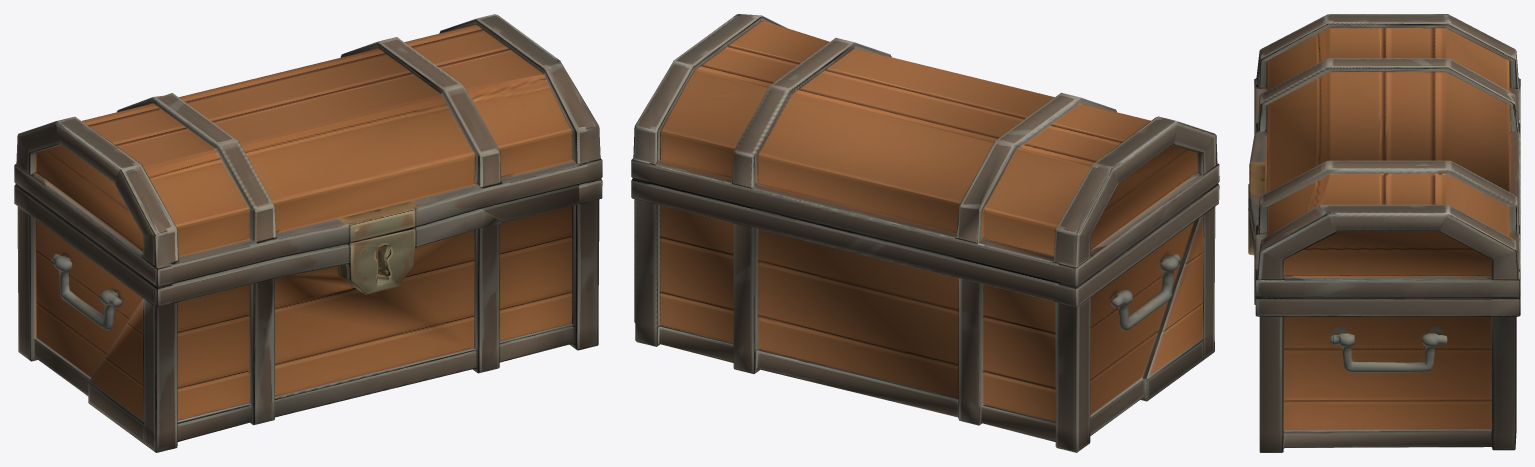
The model's file is Meshy_AI_Sturdy_Treasure_Chest_0521183251_texture.fbx.
The picture shows the model from 3 angles, left to right: view 1: azimuth 30°, elevation 25°; view 2: azimuth 150°, elevation 25°; view 3: azimuth 270°, elevation 25°; orthographic projection. The views are drawn at different scales.
Visible parts, largest first — view 1: Mesh_0; view 2: Mesh_0; view 3: Mesh_0.
Boxes of the visible parts, x1=… form: Mesh_0: x1=14, y1=14, x2=602, y2=452; Mesh_0: x1=631, y1=14, x2=1219, y2=452; Mesh_0: x1=1248, y1=14, x2=1520, y2=452.
Bounding box in the file's own units: 191 × 102 × 105.
Materials: 1 (1 with a texture image).
